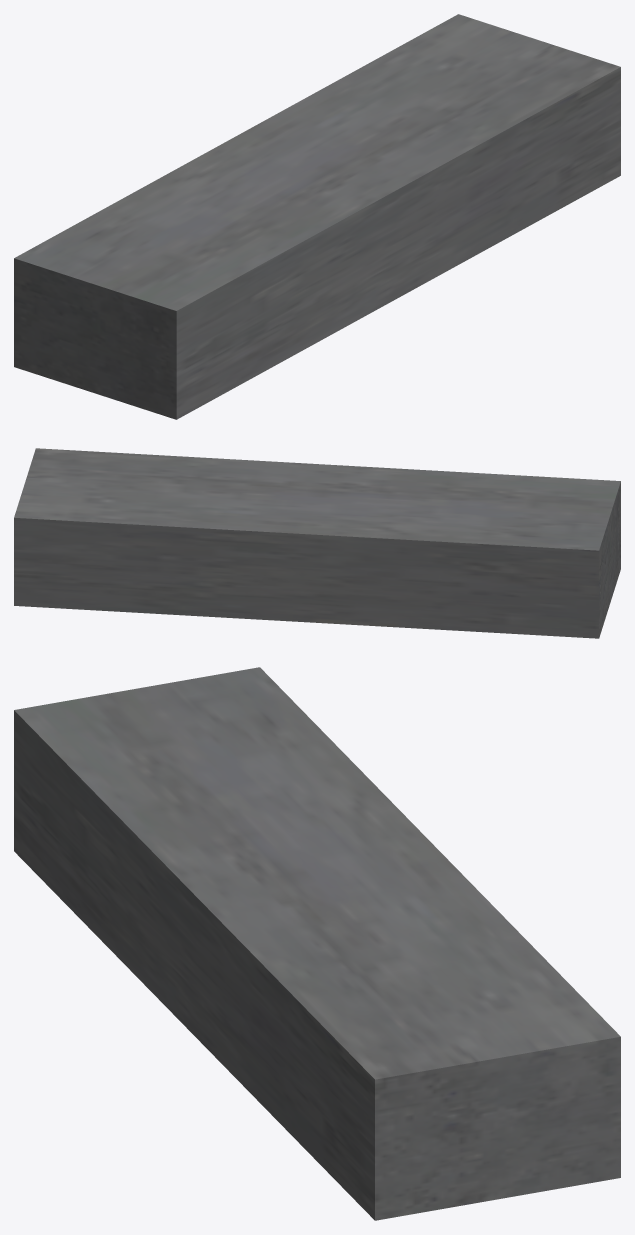
The model's file is GH_1_Stairs_1.gltf.
3 views of the same model, one above another, from view 1: azimuth 30°, elevation 25°; view 2: azimuth 150°, elevation 25°; view 3: azimuth 270°, elevation 25° (orthographic). The views are drawn at different scales.
Visible parts, largest first — view 1: GH_1_Stairs_1; view 2: GH_1_Stairs_1; view 3: GH_1_Stairs_1.
Part boxes in pixels (x1,y1,x2,y2): GH_1_Stairs_1: (14, 14, 620, 419); GH_1_Stairs_1: (14, 448, 620, 638); GH_1_Stairs_1: (14, 667, 620, 1220).
Bounding box in the file's own units: 4.48 × 0.7156 × 2.79.
1 material, 1 textured.
